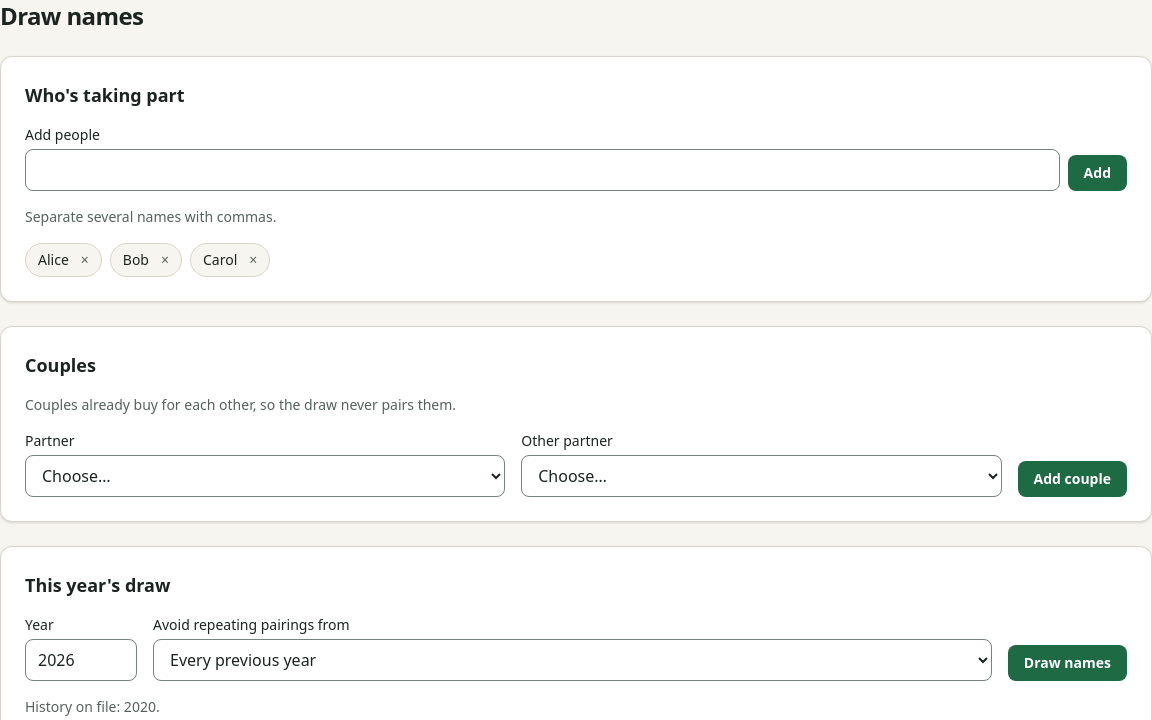
Test case: DrawPanel › warns before replacing a year that is already in history
The image size is (1152, 720).
Replace the text in the number field labelled "Year" with "2020" at (81, 660), box left=25, top=639, right=137, bottom=681
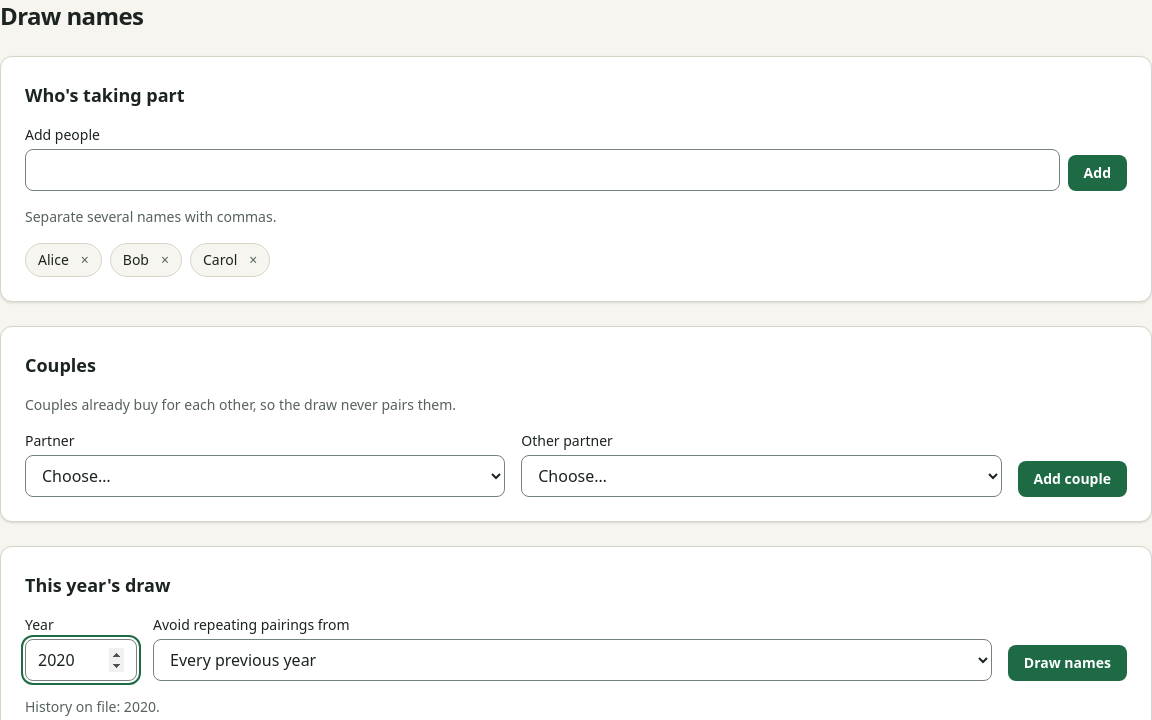
Click the button "Draw names" at (1067, 663), box left=1008, top=645, right=1127, bottom=681
(page scrolled)
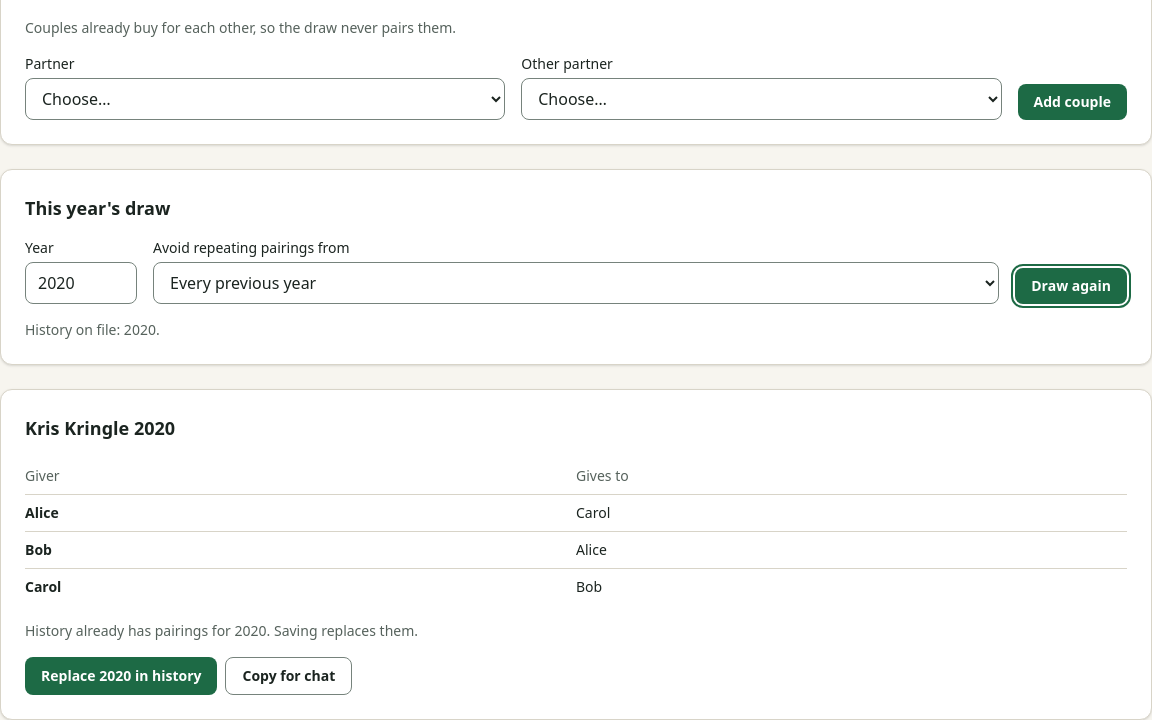
Expected: the button "Replace 2020 in history" is shown, left=25, top=657, right=218, bottom=695
Expected: the text "History already has pairings for 2020. Saving replaces them." is shown, left=25, top=621, right=418, bottom=640
